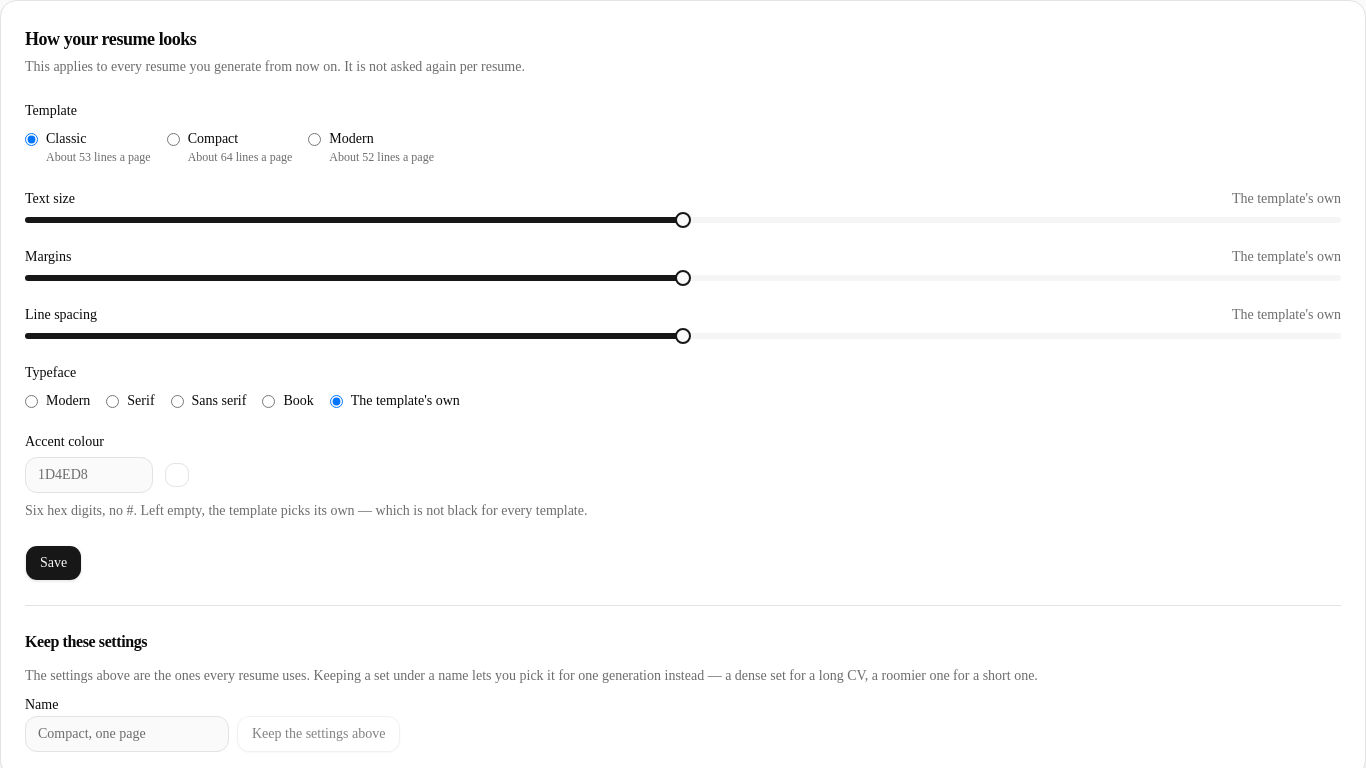
Test: keeping a set of appearance settings › deletes one without claiming old resumes are at risk
Type "Roomy" into the field labelled "Name". click: [127, 734]
box: [25, 716, 229, 752]
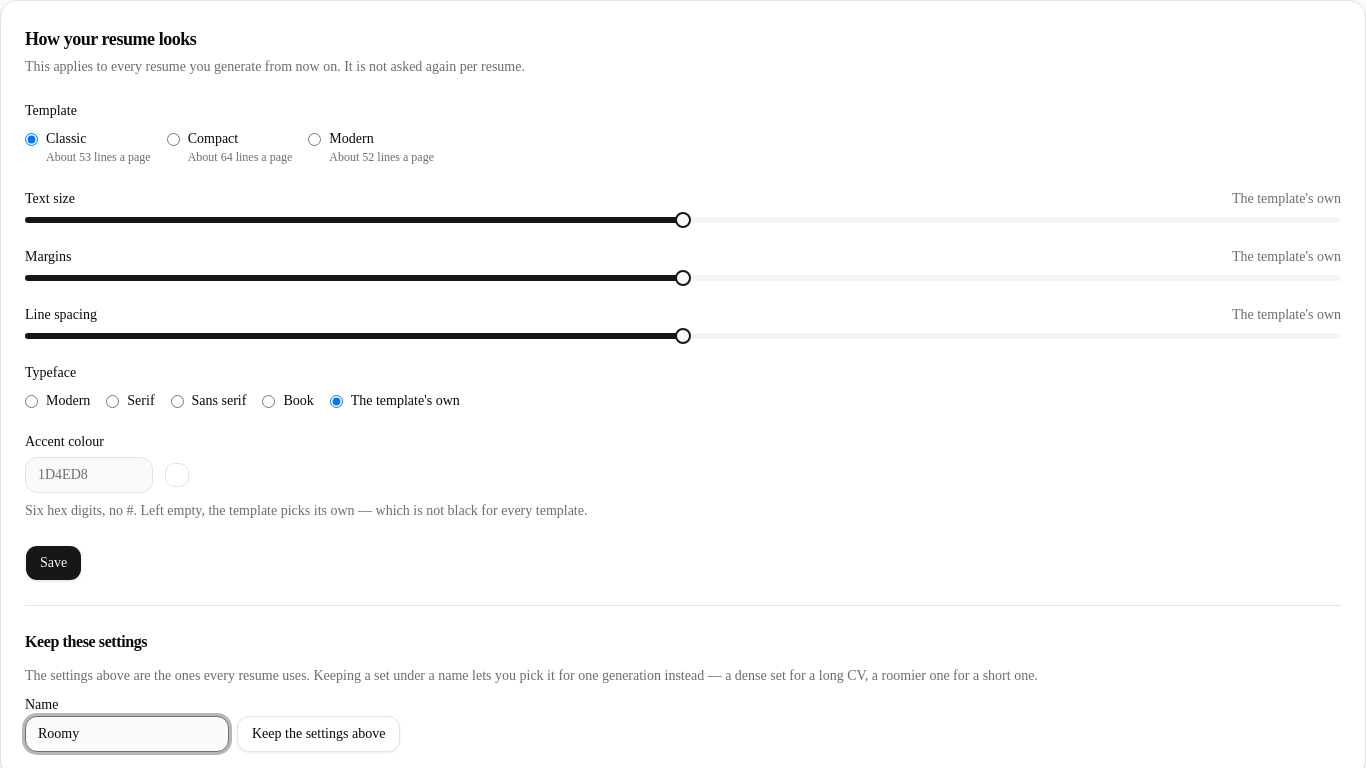
Click the button "Keep the settings above". click: [319, 734]
box: [237, 716, 400, 752]
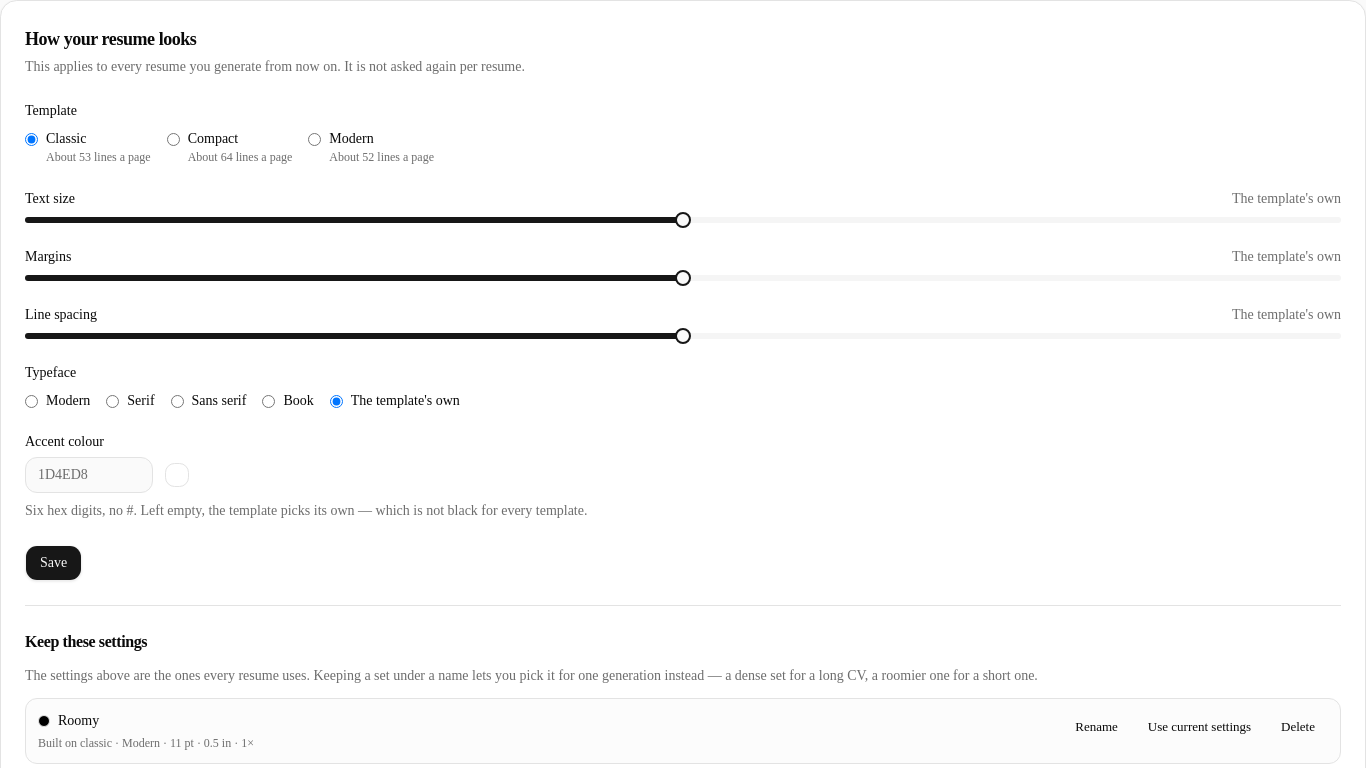
Now the text "Roomy" is shown, box [38, 713, 99, 728]
Click the button "Delete". click: [1298, 727]
box: [1268, 711, 1328, 743]
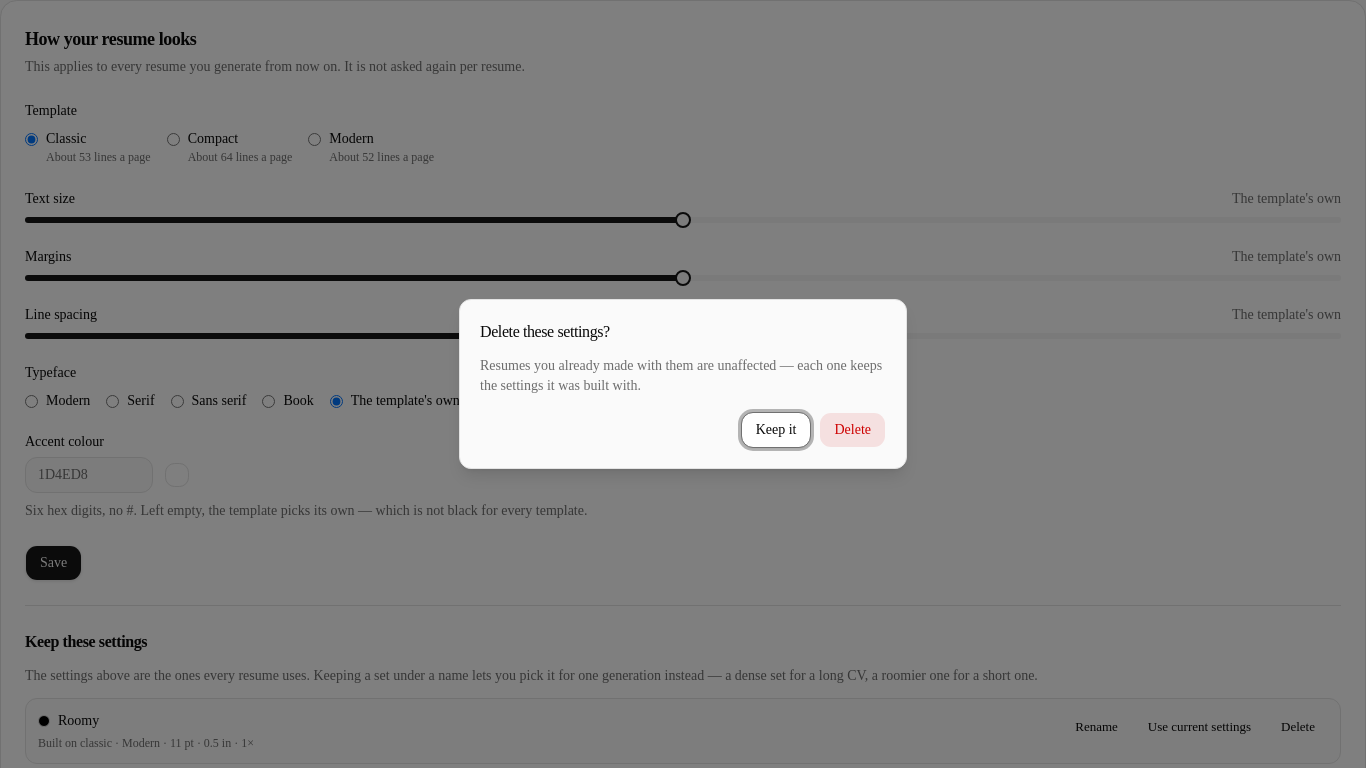
Now the text "Resumes you already made with them are unaffected — each one keeps the settings it was built with." is shown, box [480, 358, 882, 393]
Click the button "Delete". click: [853, 430]
box: [820, 412, 886, 448]
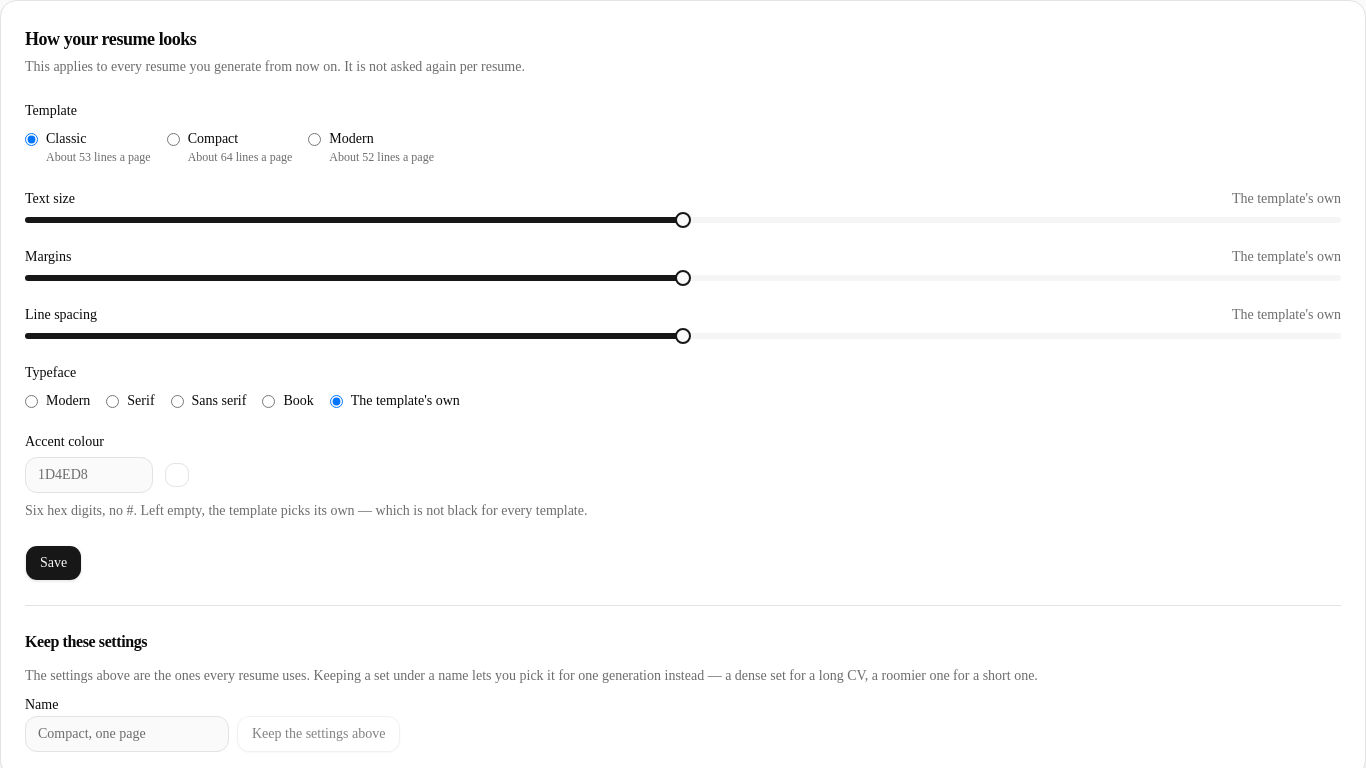
Now the text "Roomy" is gone
